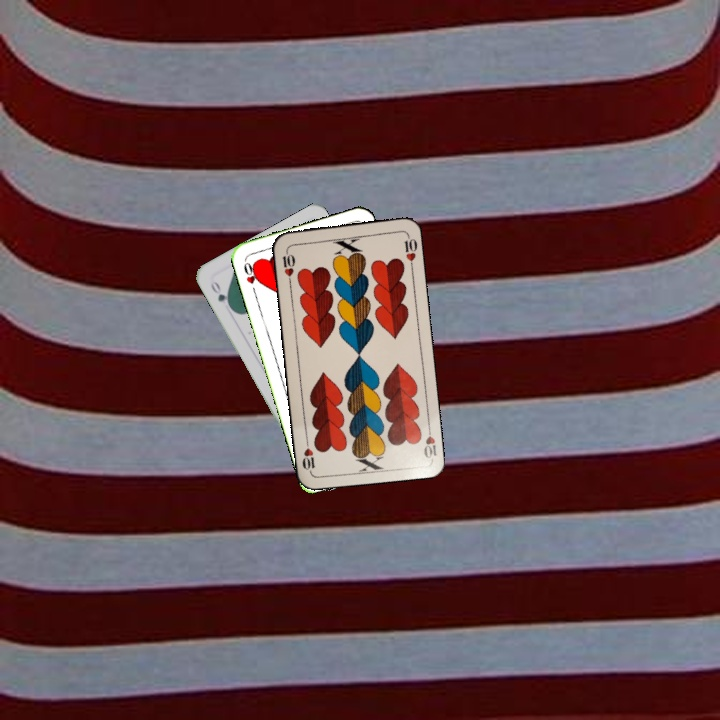GO: (206, 276, 234, 312)
H10: (278, 245, 298, 286), (420, 420, 439, 461)
HO: (240, 257, 262, 297)
